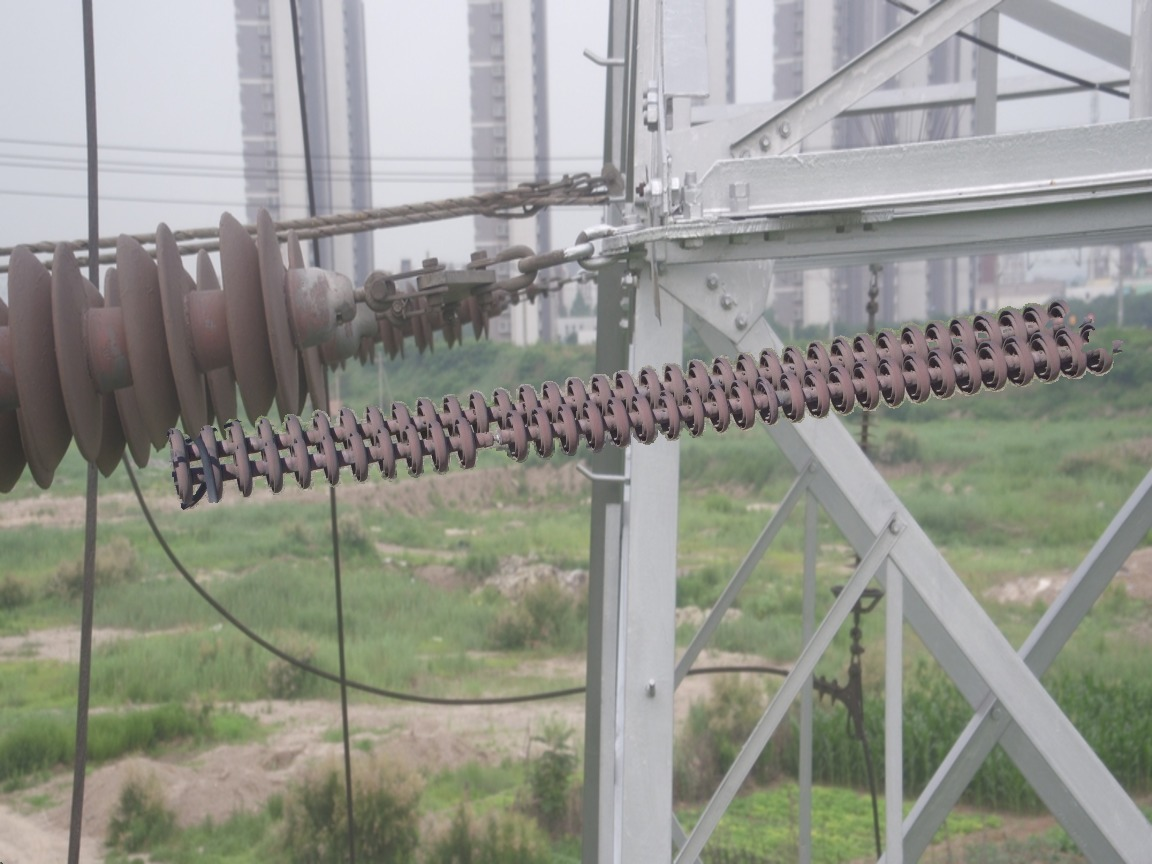defect: (450, 408, 535, 472)
